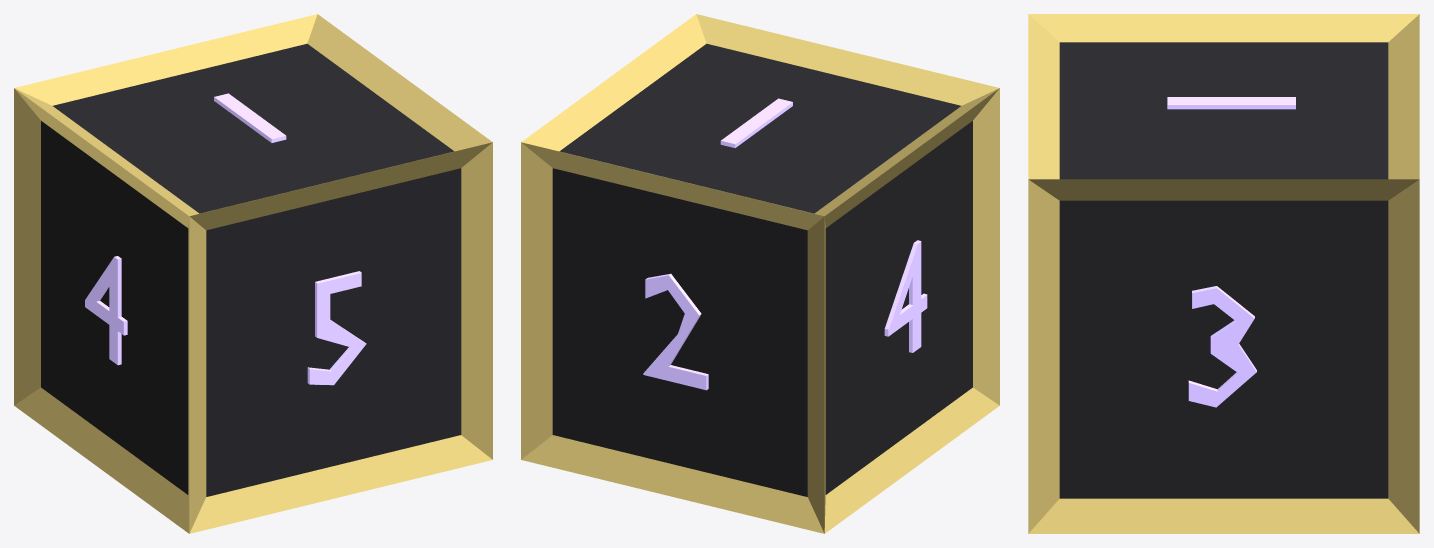
The model's file is d6_black_hole_gold.glb.
3 renders of one model, left to right at view 1: azimuth 30°, elevation 25°; view 2: azimuth 150°, elevation 25°; view 3: azimuth 270°, elevation 25°, orthographic. The views are drawn at different scales.
Parts seen in each view (by area): view 1: D6_Die; view 2: D6_Die; view 3: D6_Die.
Boxes of the visible parts, box(x1,y1,x2,y2) form: D6_Die: box(14, 14, 492, 533); D6_Die: box(521, 14, 999, 533); D6_Die: box(1028, 14, 1419, 533).
Size of the model in its own units: 3.6 by 3.6 by 3.6.
